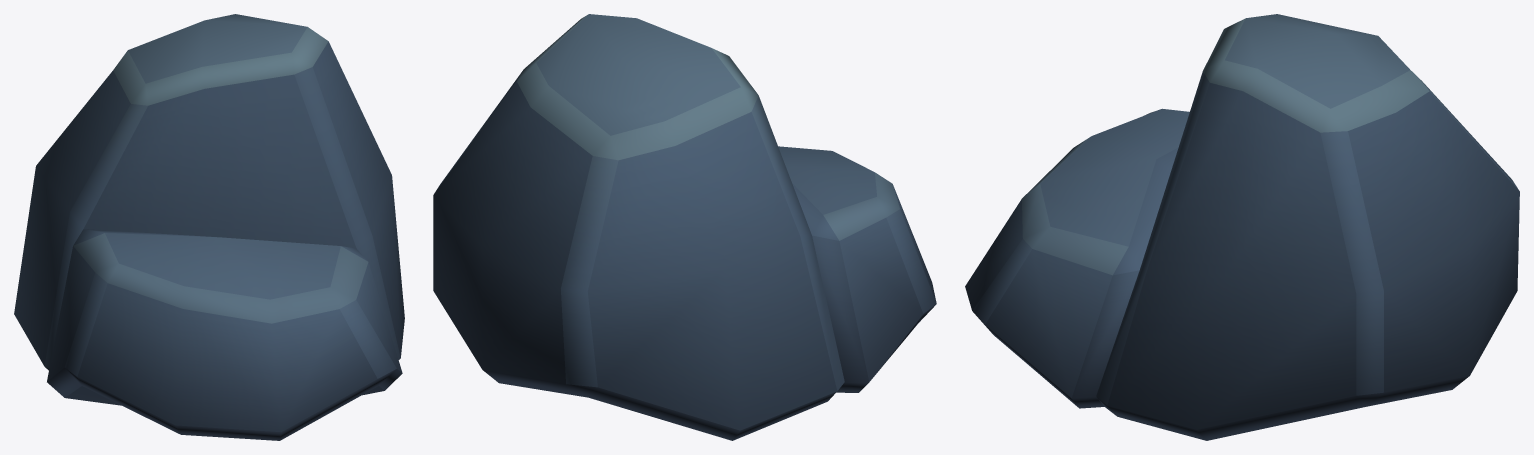
File: rock_05.fbx
The picture shows the model from 3 angles, left to right: view 1: azimuth 30°, elevation 25°; view 2: azimuth 150°, elevation 25°; view 3: azimuth 270°, elevation 25°; orthographic projection. The views are drawn at different scales.
Parts seen in each view (by area): view 1: rock_05; view 2: rock_05; view 3: rock_05.
Part boxes in pixels (left/top/right/bottom): rock_05: left=14, top=14, right=404, bottom=440; rock_05: left=433, top=14, right=936, bottom=440; rock_05: left=965, top=14, right=1519, bottom=440.
Bounding box in the file's own units: 121 × 101 × 137.
1 material, 1 textured.
